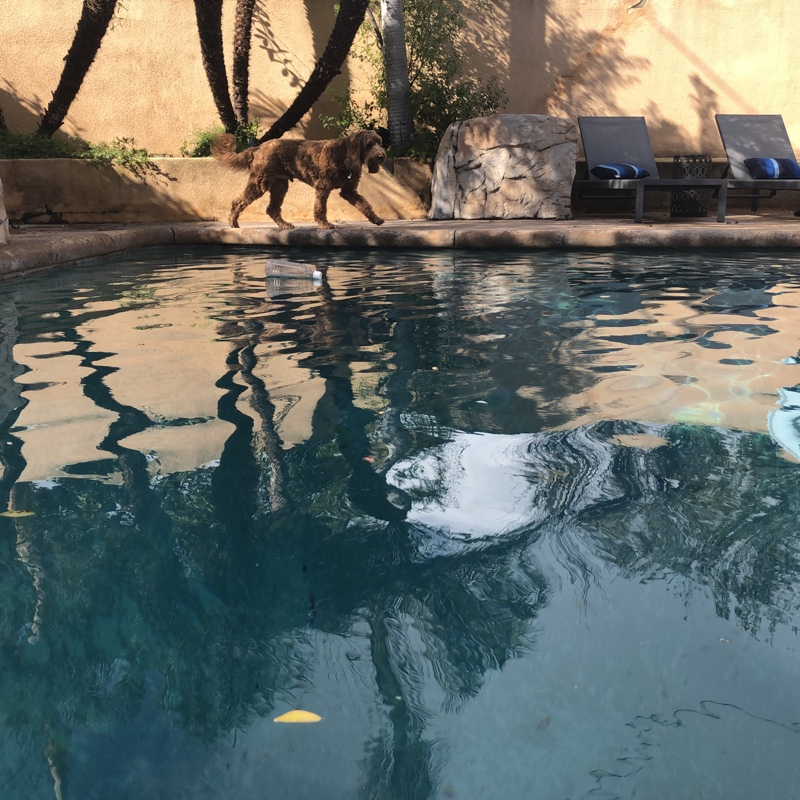Plastic Bottle: (261, 259, 322, 284)
